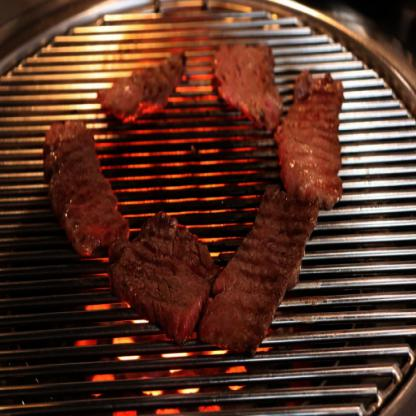Carne: (192, 173, 325, 369), (104, 201, 212, 340), (41, 113, 120, 268), (282, 72, 348, 197), (214, 24, 282, 139)
